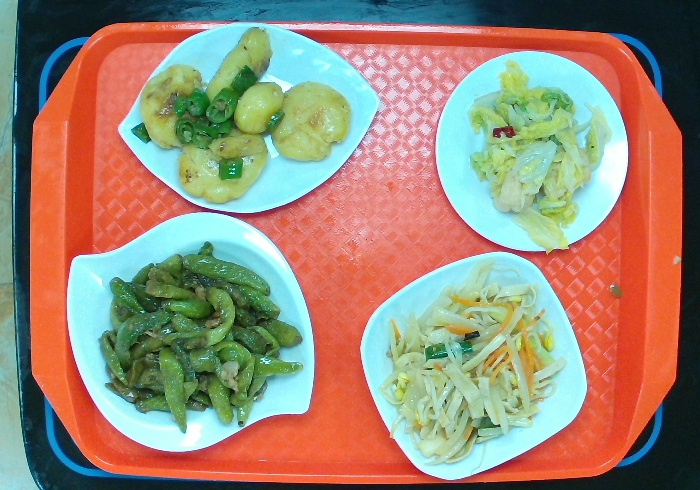RJxy-Da_Du_Pan: (118, 20, 382, 217)
RJxy-Shuang_Jiao_Pan: (62, 209, 317, 452)
RJxy-Si_Fang_Wan: (357, 250, 587, 488)
RJxy-Xiao_Yuan_Die: (423, 51, 635, 252)
